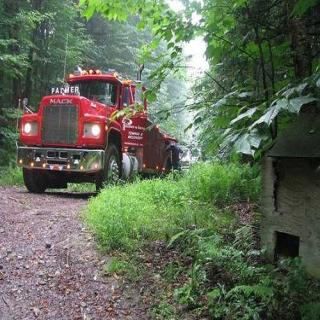Towing_truck: (15, 64, 184, 195)
